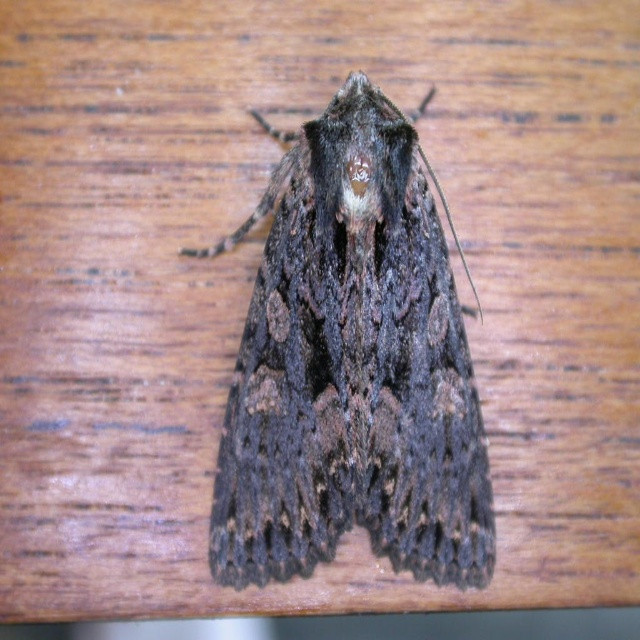Moths and butterflies: (176, 65, 499, 589)
